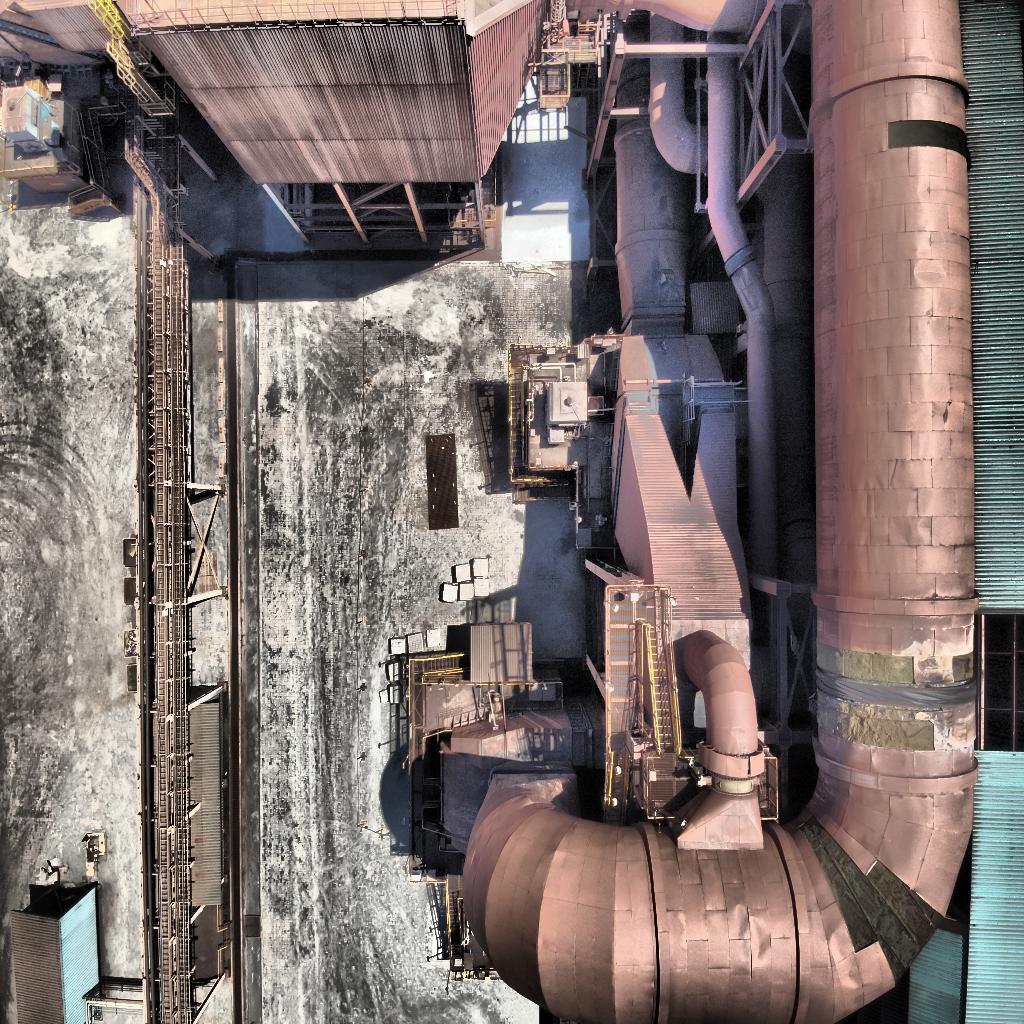Failures: (796, 820, 947, 975), (814, 692, 936, 752), (814, 640, 918, 688), (888, 117, 971, 160), (947, 648, 976, 688), (962, 128, 975, 179)
